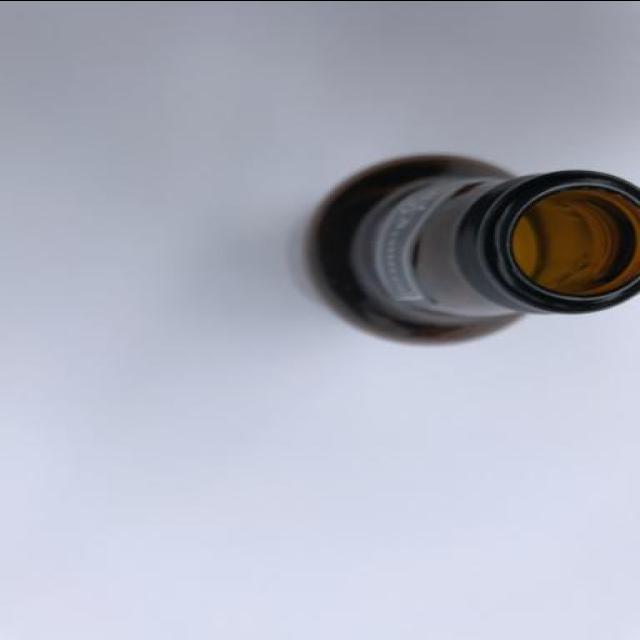litter: (294, 152, 638, 348)
